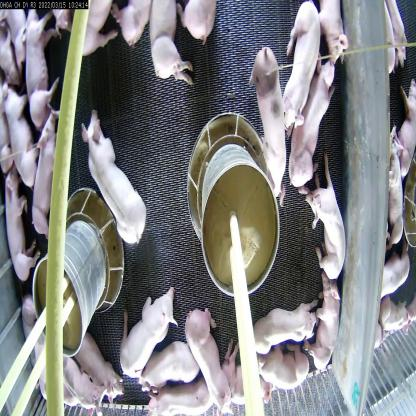Pig: (80, 105, 156, 258), (245, 40, 294, 213), (303, 144, 350, 282), (117, 282, 179, 384), (290, 53, 336, 190), (280, 0, 323, 140), (21, 11, 73, 126), (183, 304, 235, 415), (23, 110, 64, 242), (0, 162, 44, 282), (246, 293, 322, 361), (0, 86, 44, 188), (148, 0, 193, 91), (303, 266, 341, 373), (220, 337, 273, 411), (138, 334, 202, 392), (76, 331, 124, 407), (254, 343, 308, 407), (69, 1, 124, 63), (54, 351, 106, 415), (385, 126, 410, 257), (315, 0, 356, 67), (149, 377, 219, 415), (112, 0, 157, 54), (378, 245, 416, 304), (176, 0, 220, 46)
